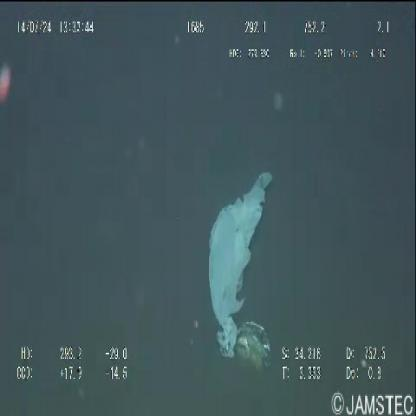Rác: (208, 171, 273, 359)
